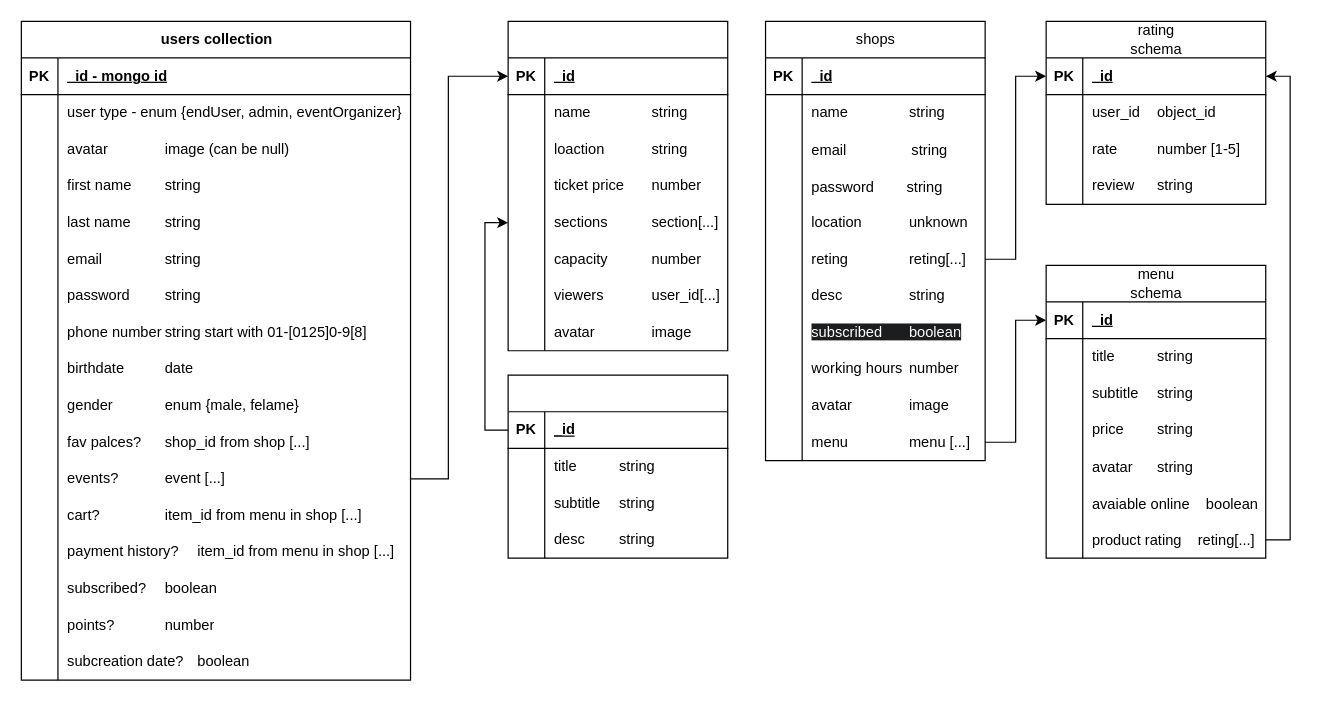
Image size: 1321x702. Some labels were removed from this diagram. Here are the shapes that lost their labels. From the top down, the box of each, then its label:
(507, 20, 728, 351): event schema
(507, 374, 728, 558): section schema
